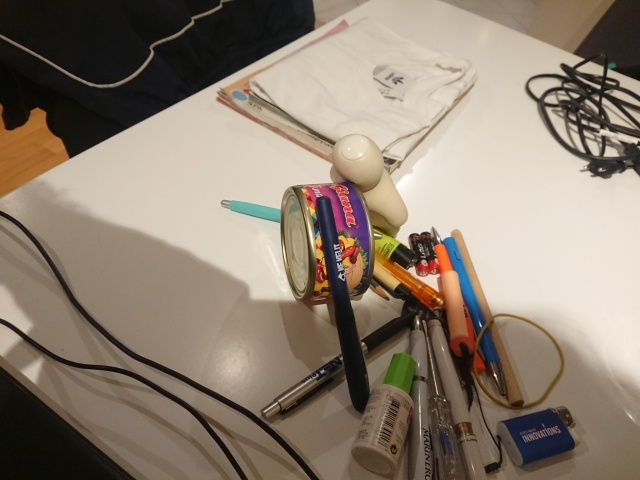Giana Tuna Salad Mexico 185g: (278, 179, 378, 306)
